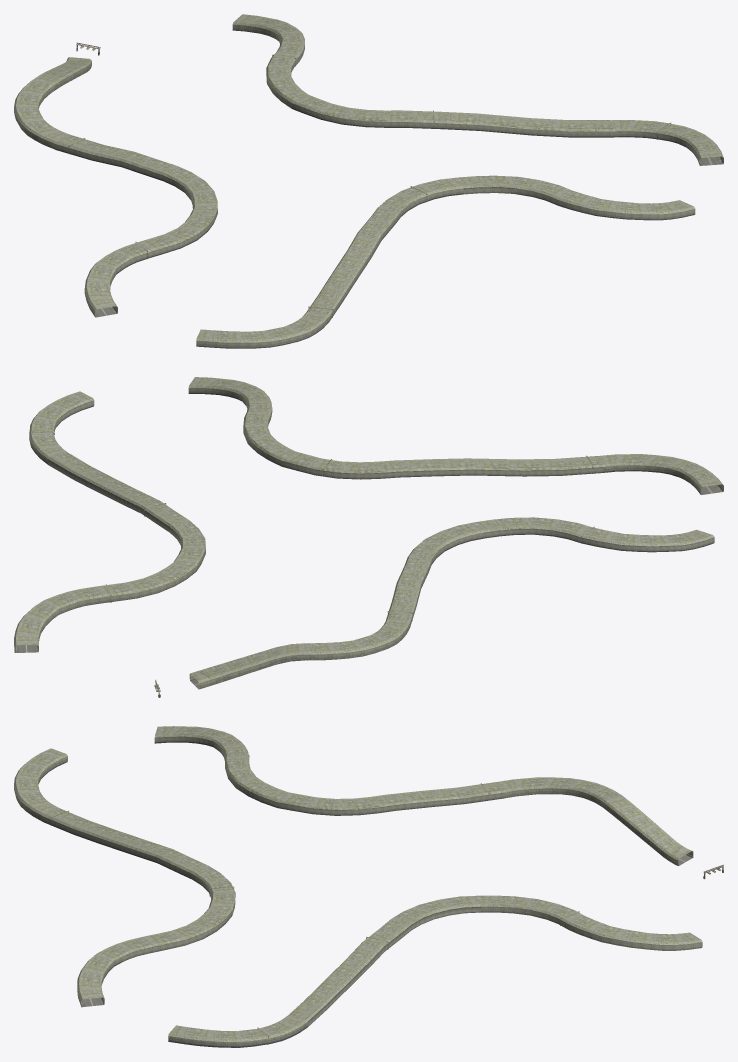
The picture shows the model from 3 angles, top to bottom: view 1: azimuth 30°, elevation 25°; view 2: azimuth 150°, elevation 25°; view 3: azimuth 270°, elevation 25°; orthographic projection. The views are drawn at different scales.
Parts seen in each view (by area): view 1: SM_HK_00_04.001, SM_HK_00_04, SM_HK_00_04.002; view 2: SM_HK_00_04.002, SM_HK_00_04.001, SM_HK_00_04; view 3: SM_HK_00_04.002, SM_HK_00_04, SM_HK_00_04.001.
Boxes of the visible parts, x1,y1,x2,y2 form: SM_HK_00_04.001: [196, 175, 695, 348]; SM_HK_00_04: [232, 14, 723, 165]; SM_HK_00_04.002: [14, 57, 217, 317]; SM_HK_00_04.002: [189, 517, 714, 689]; SM_HK_00_04.001: [188, 377, 723, 494]; SM_HK_00_04: [14, 391, 205, 652]; SM_HK_00_04.002: [154, 726, 693, 865]; SM_HK_00_04: [168, 895, 702, 1047]; SM_HK_00_04.001: [14, 748, 235, 1007].
Size of the model in its own units: 58509 by 2862 by 56920.
